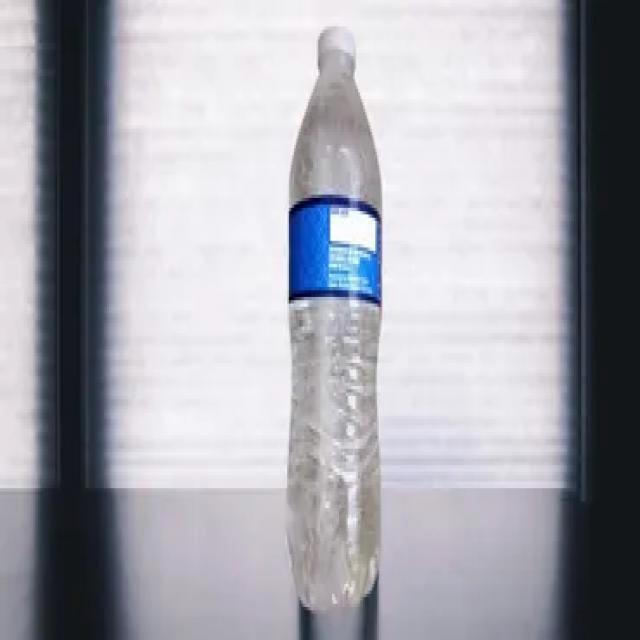bottle: (287, 25, 383, 614)
